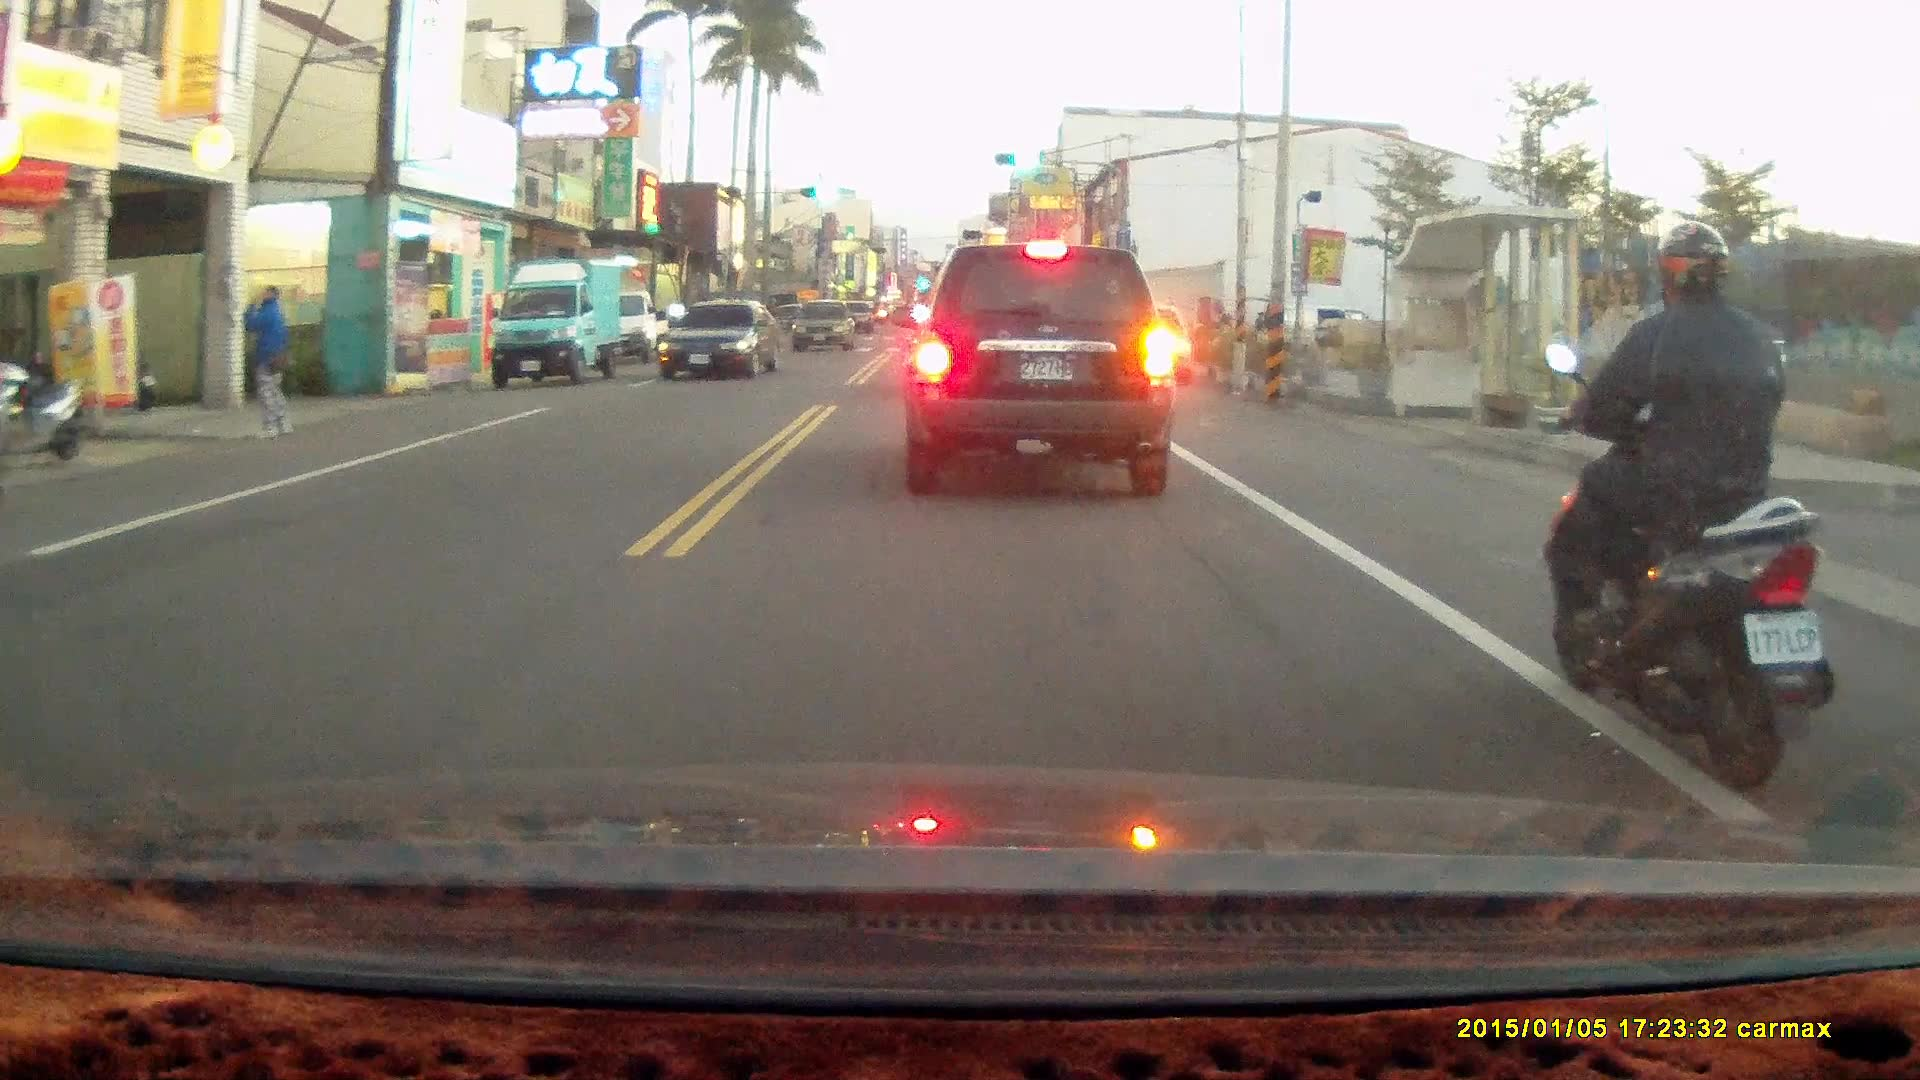pedestrian: (237, 281, 297, 441)
rider: (1542, 217, 1835, 796)
vehicle: (899, 238, 1180, 499), (488, 256, 625, 392), (656, 298, 785, 381), (790, 300, 857, 357)
